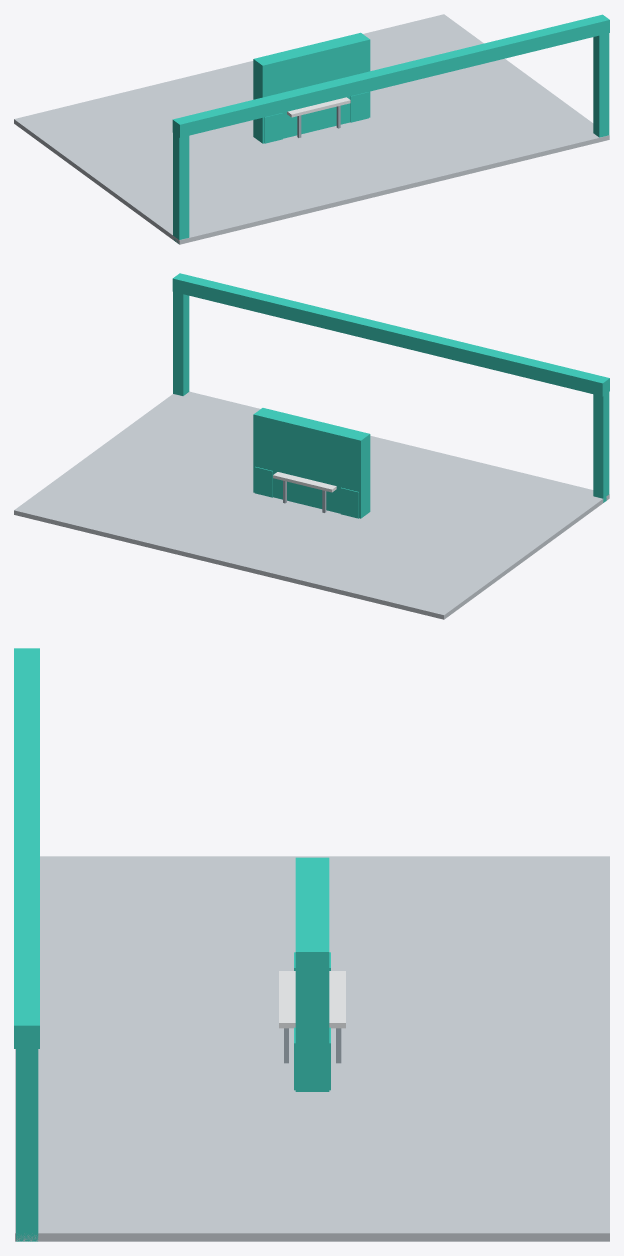
3 views of the same model, one above another, from view 1: azimuth 30°, elevation 25°; view 2: azimuth 150°, elevation 25°; view 3: azimuth 270°, elevation 25° (orthographic). The views are drawn at different scales.
Parts seen in each view (by area): view 1: Exhibition Booth Concept; view 2: Exhibition Booth Concept; view 3: Exhibition Booth Concept.
Part boxes in pixels (x1=…): Exhibition Booth Concept: x1=14, y1=14, x2=609, y2=244; Exhibition Booth Concept: x1=14, y1=273, x2=609, y2=619; Exhibition Booth Concept: x1=14, y1=648, x2=609, y2=1241.
Size of the model in its own units: 12 by 3.2 by 8.01.
